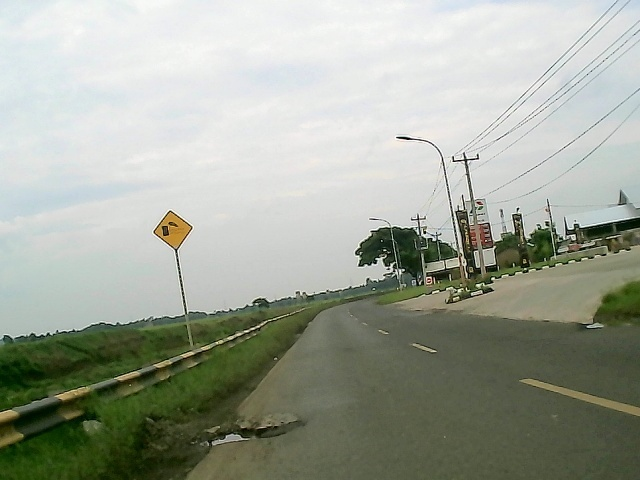Peringatan tepi air: (151, 208, 195, 249)
